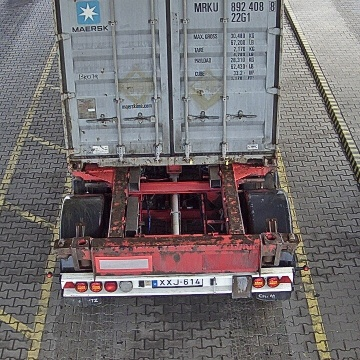serial_id: (194, 1, 275, 11)
